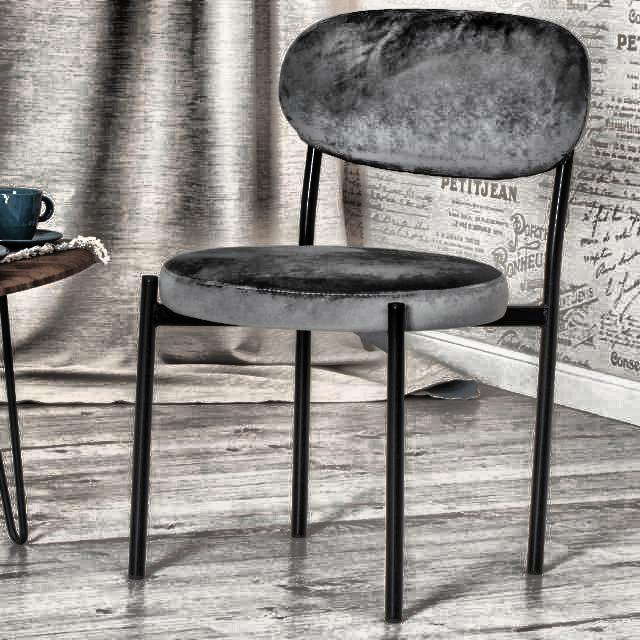cadeira: (123, 4, 596, 623), (126, 12, 578, 332)
